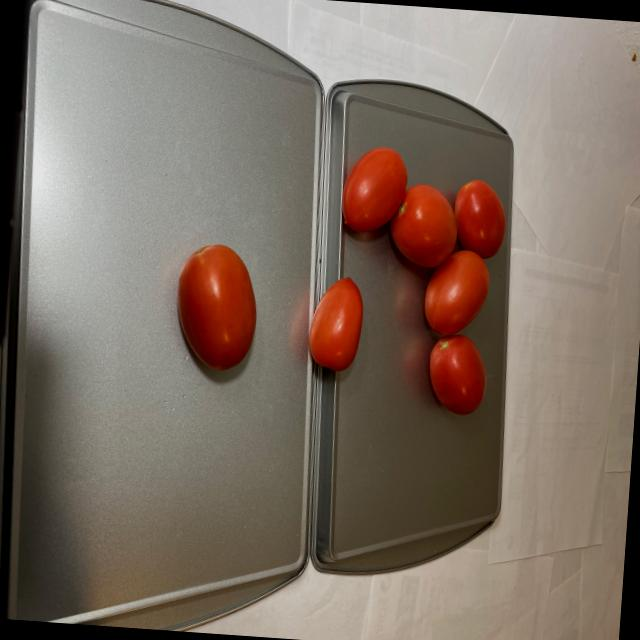tomato: (303, 138, 511, 422), (170, 236, 264, 374)
